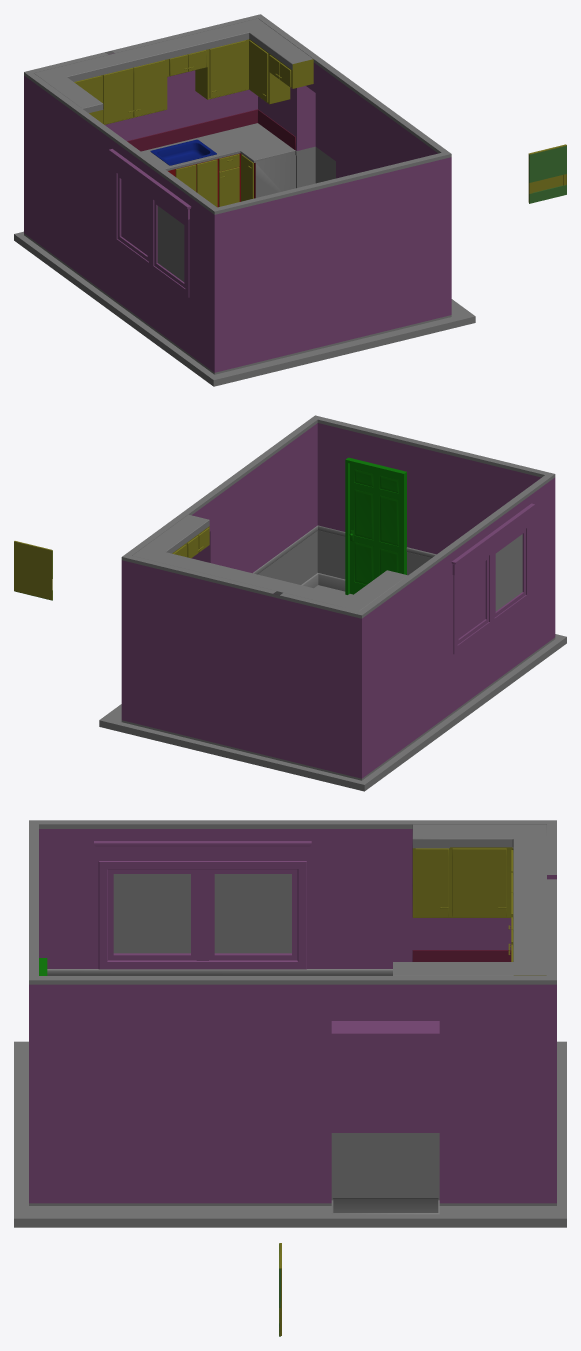
Rendered from FloorPlan20_Backup.fbx.
3 views of the same model, one above another, from view 1: azimuth 30°, elevation 25°; view 2: azimuth 150°, elevation 25°; view 3: azimuth 270°, elevation 25° (orthographic). The views are drawn at different scales.
Visible parts, largest first — view 1: StandardWallSize, StandardUpperCabinetHeightWidth, Window, Floor, StandardCounterHeightWidth, StandardWallTileHeight1, CabinetDoorBase1 (8), CabinetDoorBase1 (11), CabinetDoorBase1 (10), CabinetDoorBase1 (3), StandardSinkSize1 (2), CabinetDoorBase1 (16) (+3 smaller); view 2: StandardWallSize, Window, Floor, StandardDoor1, StandardUpperCabinetHeightWidth, CabinetDoorBase3, StandardDoorFrame1; view 3: StandardWallSize, Window, Floor, StandardUpperCabinetHeightWidth, CabinetDoorBase1 (12), CabinetDoorBase1 (13), StandardWallTileHeight1.
Part boxes in pixels (box(x1,y1,x2,y2)): StandardWallSize: box(24, 14, 451, 374); StandardUpperCabinetHeightWidth: box(34, 18, 313, 124); Window: box(108, 149, 191, 297); Floor: box(14, 231, 475, 386); StandardCounterHeightWidth: box(141, 123, 295, 207); StandardWallTileHeight1: box(127, 109, 295, 151); CabinetDoorBase1 (8): box(209, 40, 245, 98); CabinetDoorBase1 (11): box(133, 60, 164, 116); CabinetDoorBase1 (10): box(103, 68, 133, 124); CabinetDoorBase1 (3): box(249, 40, 268, 102); StandardSinkSize1 (2): box(150, 139, 216, 165); CabinetDoorBase1 (16): box(196, 159, 217, 207); StandardWallSize: box(121, 415, 555, 780); Window: box(451, 503, 535, 654); Floor: box(99, 585, 566, 791); StandardDoor1: box(350, 463, 401, 594); StandardUpperCabinetHeightWidth: box(132, 514, 407, 610); CabinetDoorBase3: box(14, 541, 52, 598); StandardDoorFrame1: box(345, 457, 406, 594); StandardWallSize: box(29, 820, 556, 1214); Window: box(94, 841, 311, 969); Floor: box(14, 1041, 566, 1227); StandardUpperCabinetHeightWidth: box(393, 824, 546, 975); CabinetDoorBase1 (12): box(452, 848, 506, 916); CabinetDoorBase1 (13): box(415, 848, 448, 916); StandardWallTileHeight1: box(412, 950, 511, 961).
Bounding box in the file's own units: 720 × 260 × 555.
